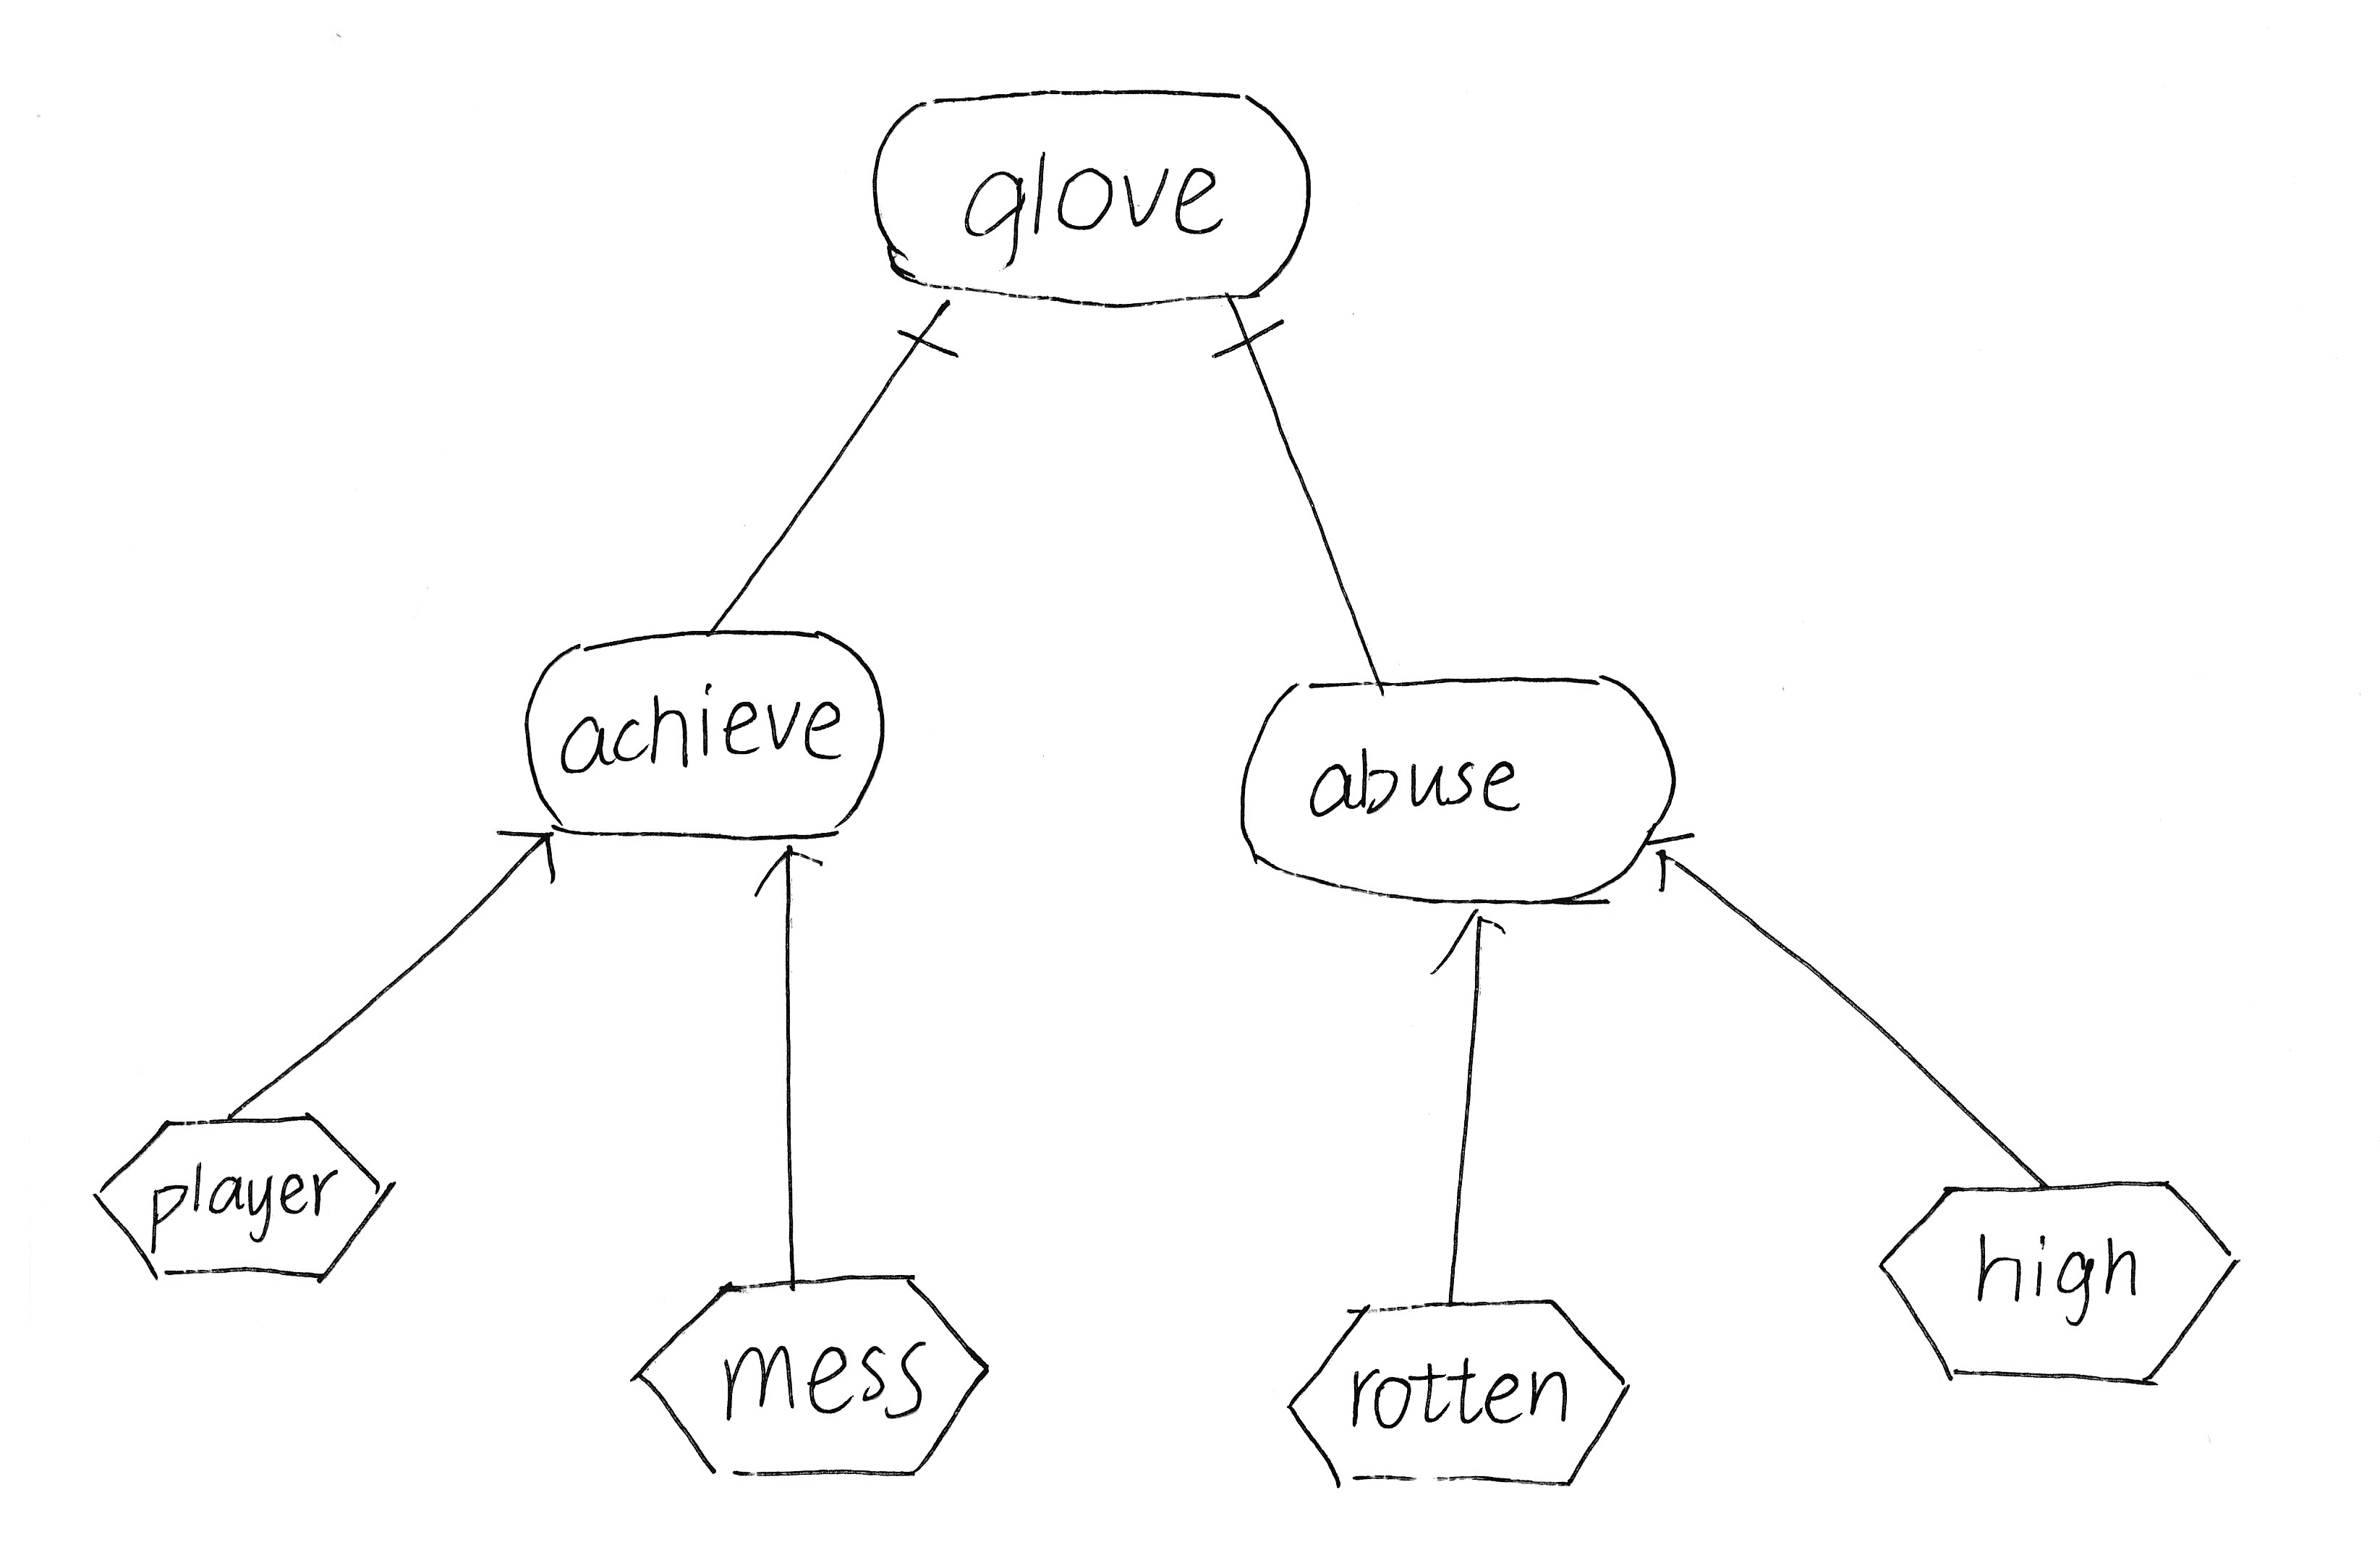and: (1207, 288, 1289, 373), (891, 288, 968, 373)
arrow: (1423, 891, 1513, 987), (492, 808, 586, 895), (743, 836, 842, 909), (1632, 823, 1709, 900)
goal: (1219, 651, 1695, 919), (858, 65, 1334, 323), (511, 609, 901, 862)
task: (1864, 1169, 2261, 1409), (621, 1256, 1008, 1500), (1275, 1280, 1642, 1504), (75, 1095, 410, 1293)
